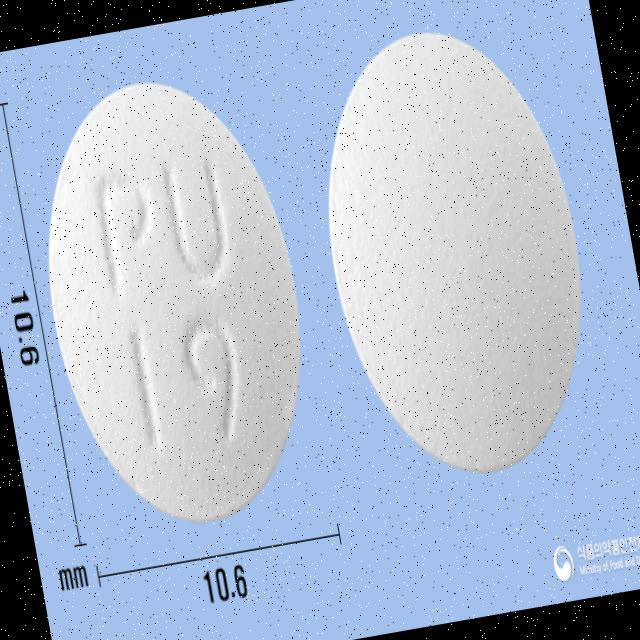Flori: (12, 58, 334, 542), (296, 12, 615, 496)
